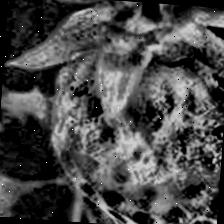Powdery Mildew Fruit: (41, 12, 224, 215)
